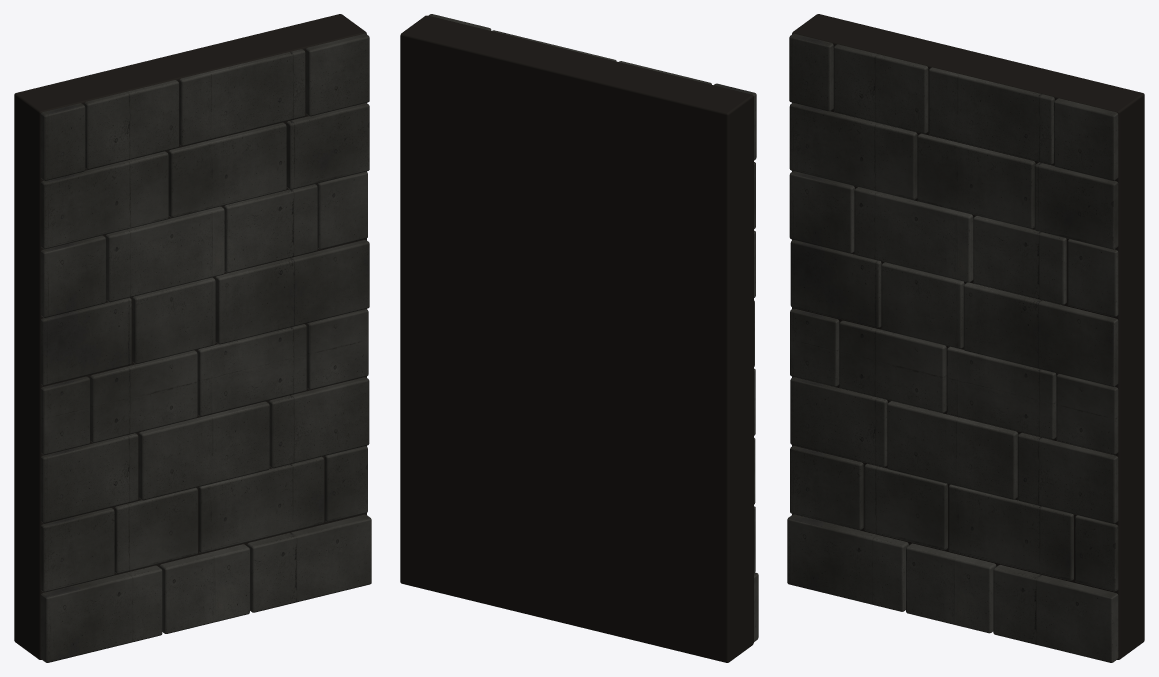
File: Wall_Stone.gltf
The picture shows the model from 3 angles, left to right: view 1: azimuth 30°, elevation 25°; view 2: azimuth 150°, elevation 25°; view 3: azimuth 330°, elevation 25°; orthographic projection.
Visible parts, largest first — view 1: Wall_Stone_Body; view 2: Wall_Stone_Body; view 3: Wall_Stone_Body.
Boxes of the visible parts, left/top/right/bottom form: Wall_Stone_Body: left=14, top=14, right=371, bottom=662; Wall_Stone_Body: left=400, top=14, right=758, bottom=662; Wall_Stone_Body: left=787, top=14, right=1144, bottom=662.
Size of what is drawn, in the model's own units: 2 by 3.2 by 0.341.
Materials: 2 (1 with a texture image).
